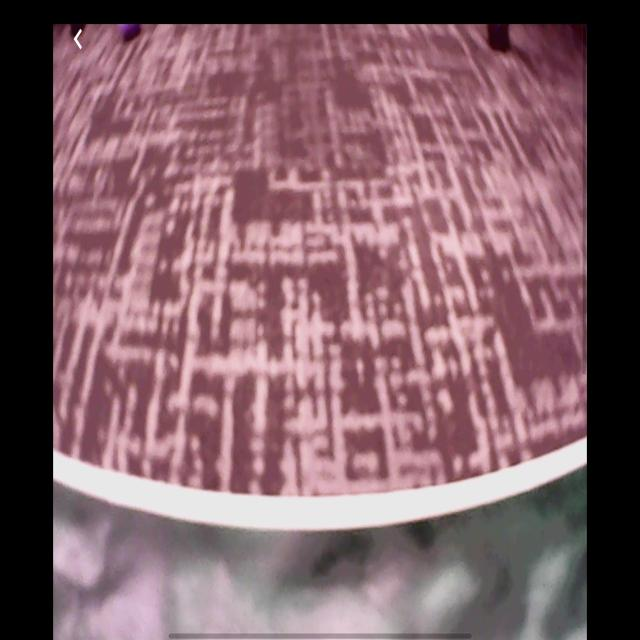ball: (119, 26, 143, 44)
